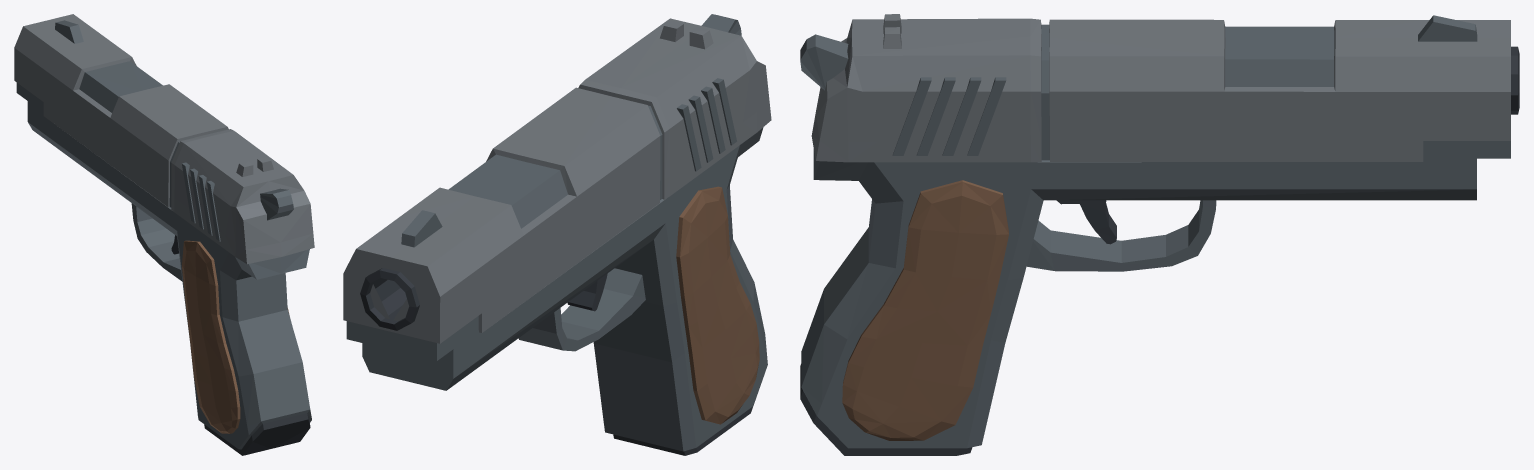
Rendered from railway-pistol.glb.
The picture shows the model from 3 angles, left to right: view 1: azimuth 30°, elevation 25°; view 2: azimuth 150°, elevation 25°; view 3: azimuth 270°, elevation 25°; orthographic projection. The views are drawn at different scales.
Parts seen in each view (by area): view 1: railway-pistol; view 2: railway-pistol; view 3: railway-pistol.
Boxes of the visible parts, left/top/right/bottom form: railway-pistol: left=14, top=14, right=314, bottom=455; railway-pistol: left=343, top=14, right=771, bottom=455; railway-pistol: left=800, top=14, right=1519, bottom=455.
Size of the model in its own units: 0.3232 by 1.16 by 1.82.
